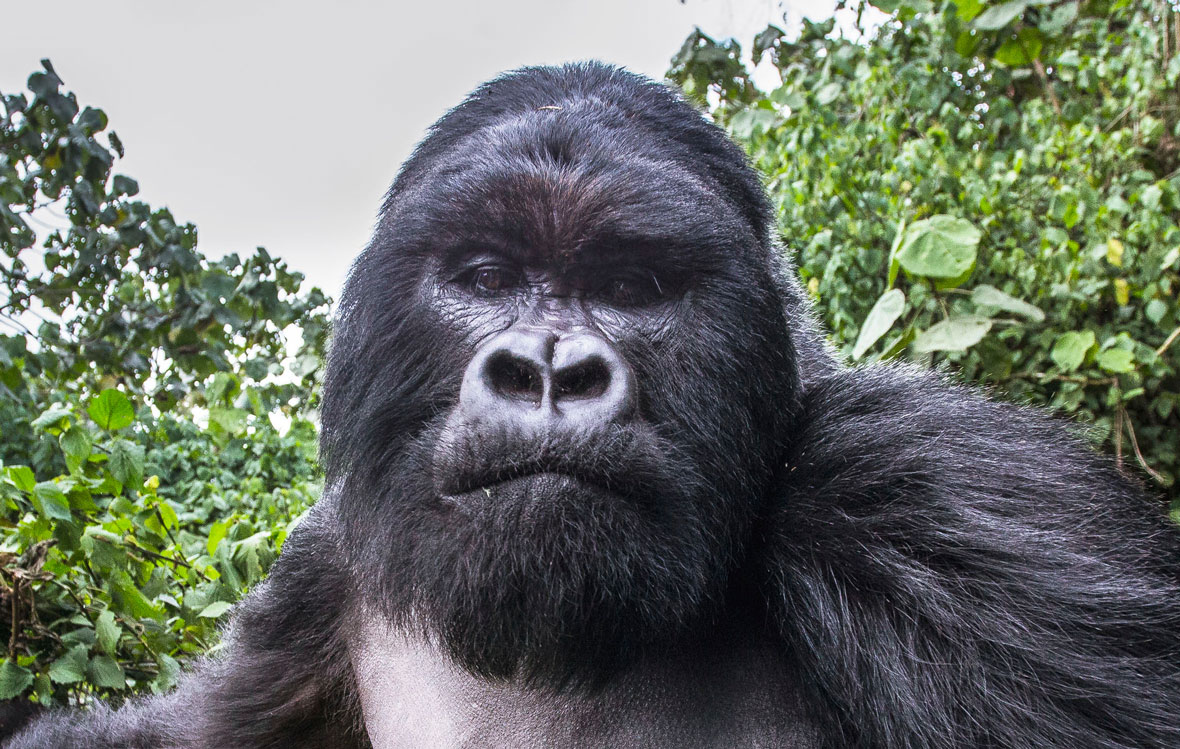Goriila: (264, 60, 1081, 749)
